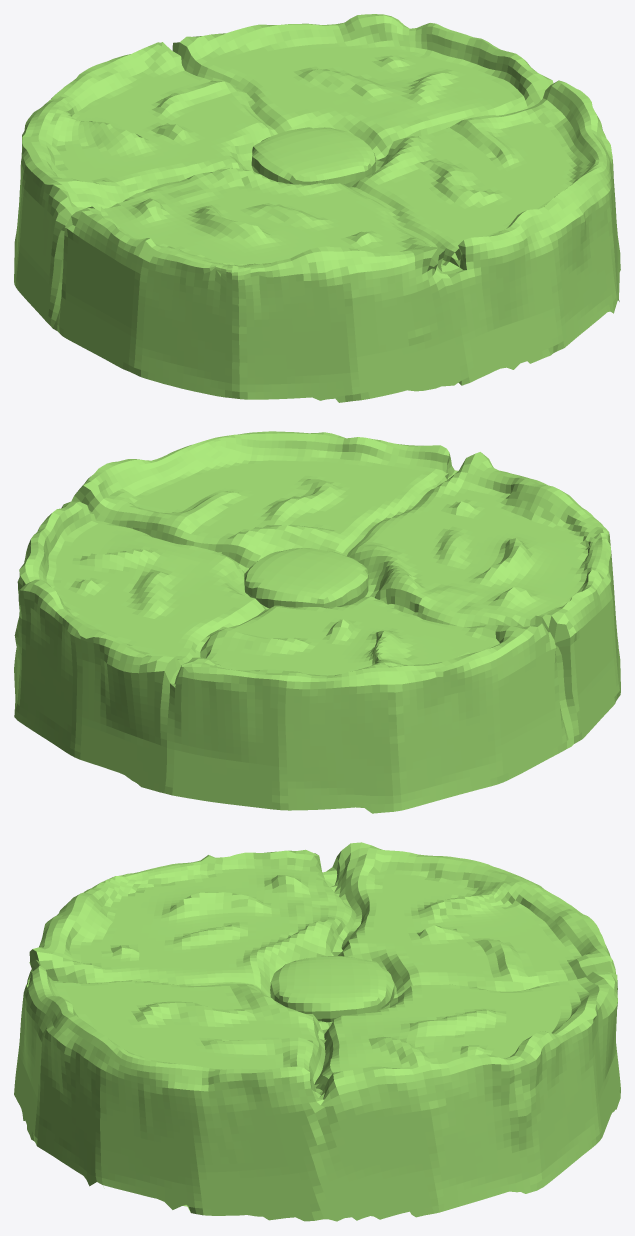
Rendered from game map_02.fbx.
3 views of the same model, one above another, from view 1: azimuth 30°, elevation 25°; view 2: azimuth 150°, elevation 25°; view 3: azimuth 270°, elevation 25° (orthographic).
Parts seen in each view (by area): view 1: ground; view 2: ground; view 3: ground.
Boxes of the visible parts, x1,y1,x2,y2 form: ground: [14, 14, 620, 402]; ground: [14, 431, 620, 813]; ground: [14, 842, 620, 1221].
Size of the model in its own units: 30111 by 7910 by 30147.
